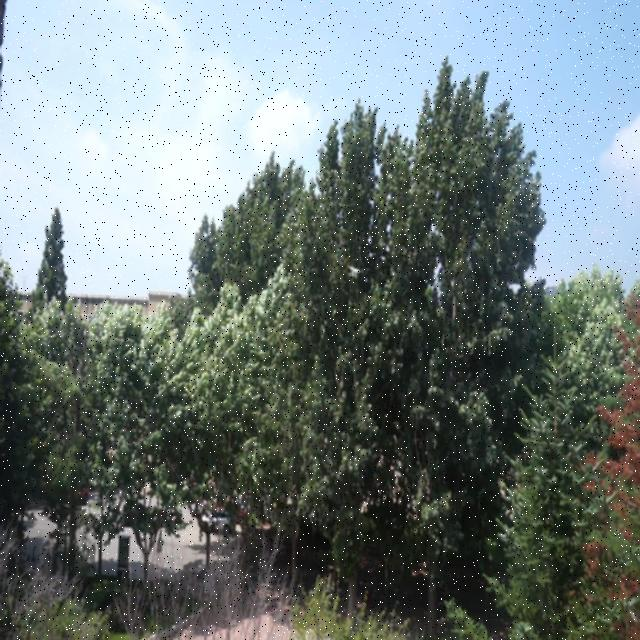UAV: (348, 266, 361, 276)
